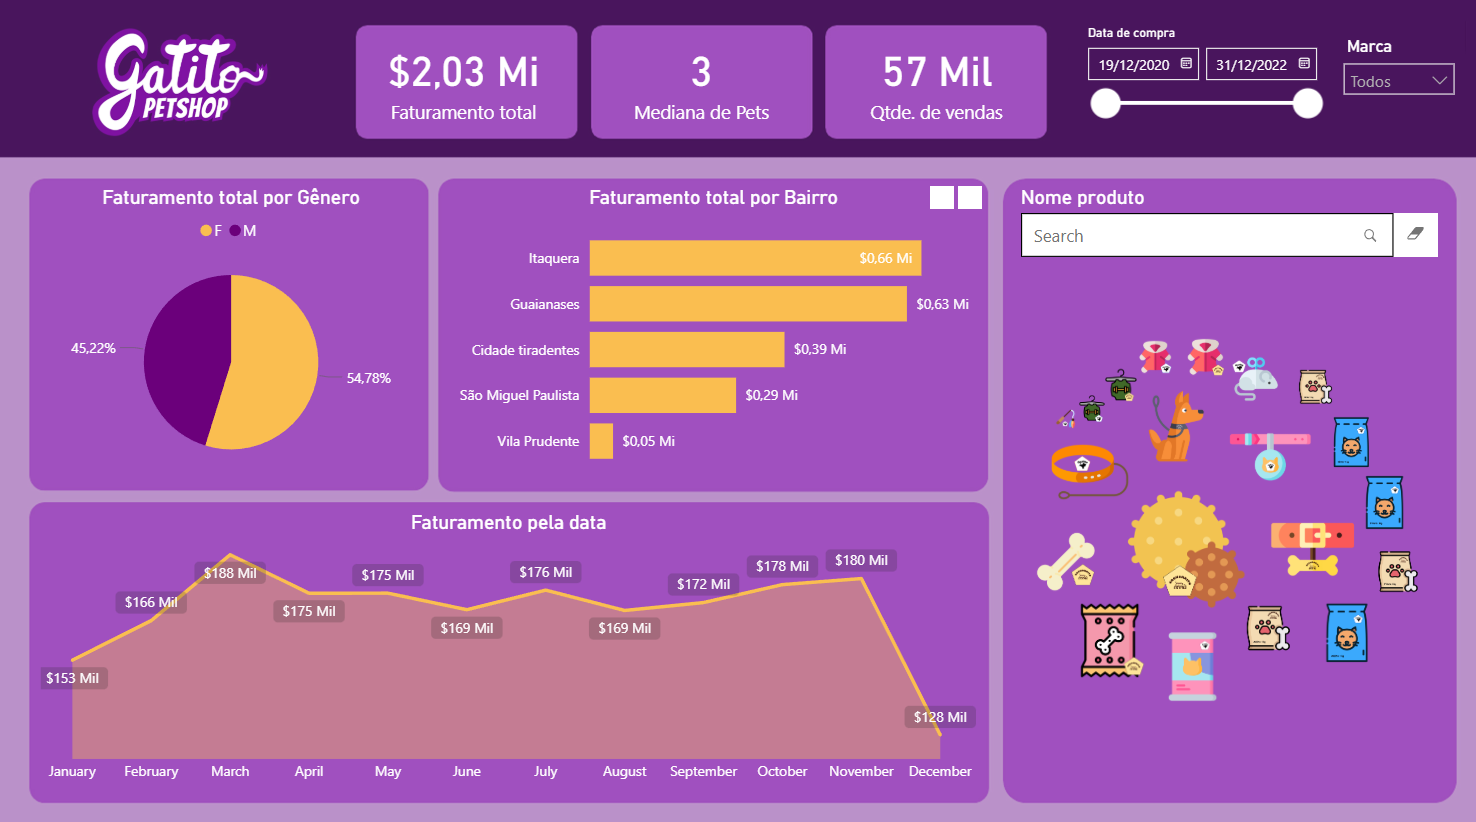

The dashboard page shown, as its layout file describes it:
{"tool":"powerbi","page":{"name":"Page 1","canvas":[1280,720],"ordinal":0},"visuals":[{"type":"card","fields":{"Values":["Median(Clientes.Pets)"]},"box":[509.7,19.2,194.5,102.5],"z":0},{"type":"card","fields":{"Values":["Sum(Vendas.Quantidade)"]},"box":[712.8,19.2,194.5,102.5],"z":1000},{"type":"card","fields":{"Values":["Vendas.Faturamento total"]},"box":[303.7,19.2,196.4,102.5],"z":2000},{"type":"pieChart","fields":{"Category":["Clientes.Gênero"],"Y":["Vendas.Faturamento total"]},"box":[31.6,161.9,337.2,258.7],"z":3000},{"type":"clusteredBarChart","fields":{"Category":["Clientes.Bairro"],"Y":["Vendas.Faturamento total"]},"box":[384.2,161.6,465.9,258.6],"z":4000},{"type":"areaChart","title":"Faturamento pela data","fields":{"Category":["Vendas.Data de compra.Variation.Date Hierarchy.Year","Vendas.Data de compra.Variation.Date Hierarchy.Quarter","Vendas.Data de compra.Variation.Date Hierarchy.Month","Vendas.Data de compra.Variation.Date Hierarchy.Day"],"Y":["Vendas.Faturamento total"]},"box":[31.4,442.6,818.8,244.2],"z":5000},{"type":"ImageGrid_FC5183B9_926C_45E0_B5F7_0CE9EAF1DA9B","fields":{"ImageURL":["Produtos.Url img"]},"box":[870.8,215.5,383.3,471.3],"z":6000},{"type":"textFilter25A4896A83E0487089E2B90C9AE57C8A","fields":{"field":["Produtos.Nome produto"]},"box":[878,161.6,369.9,67.3],"z":7000},{"type":"slicer","fields":{"Values":["Produtos.Marca"]},"box":[1152.6,28.7,115.9,92.9],"z":8000},{"type":"slicer","fields":{"Values":["Vendas.Data de compra"]},"box":[928.4,19.2,224.2,102.5],"z":9000}]}

Visuals, with their boxes in screenshot pixels (x1, y1, x2, y2), scaled from the page's 1280x720 canvas onto the 1476x822 screenshot:
card - Median(Clientes.Pets): [left=588, top=22, right=812, bottom=139]
card - Sum(Vendas.Quantidade): [left=822, top=22, right=1046, bottom=139]
card - Vendas.Faturamento total: [left=350, top=22, right=577, bottom=139]
pieChart - Clientes.Gênero x Vendas.Faturamento total: [left=36, top=185, right=425, bottom=480]
clusteredBarChart - Clientes.Bairro x Vendas.Faturamento total: [left=443, top=184, right=980, bottom=480]
"Faturamento pela data" areaChart: [left=36, top=505, right=980, bottom=784]
ImageGrid_FC5183B9_926C_45E0_B5F7_0CE9EAF1DA9B - Produtos.Url img: [left=1004, top=246, right=1446, bottom=784]
textFilter25A4896A83E0487089E2B90C9AE57C8A - Produtos.Nome produto: [left=1012, top=184, right=1439, bottom=261]
slicer - Produtos.Marca: [left=1329, top=33, right=1463, bottom=139]
slicer - Vendas.Data de compra: [left=1071, top=22, right=1329, bottom=139]
